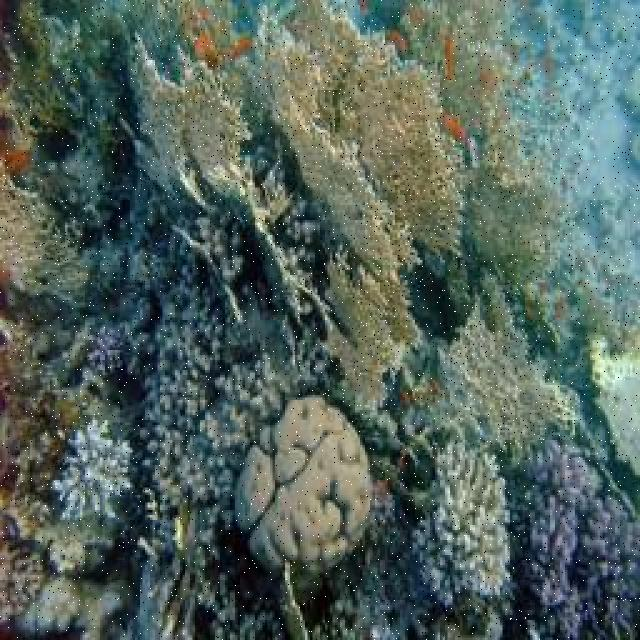reefs: (246, 1, 465, 267), (237, 395, 372, 638), (520, 442, 638, 638), (410, 442, 511, 607), (53, 418, 133, 518)
